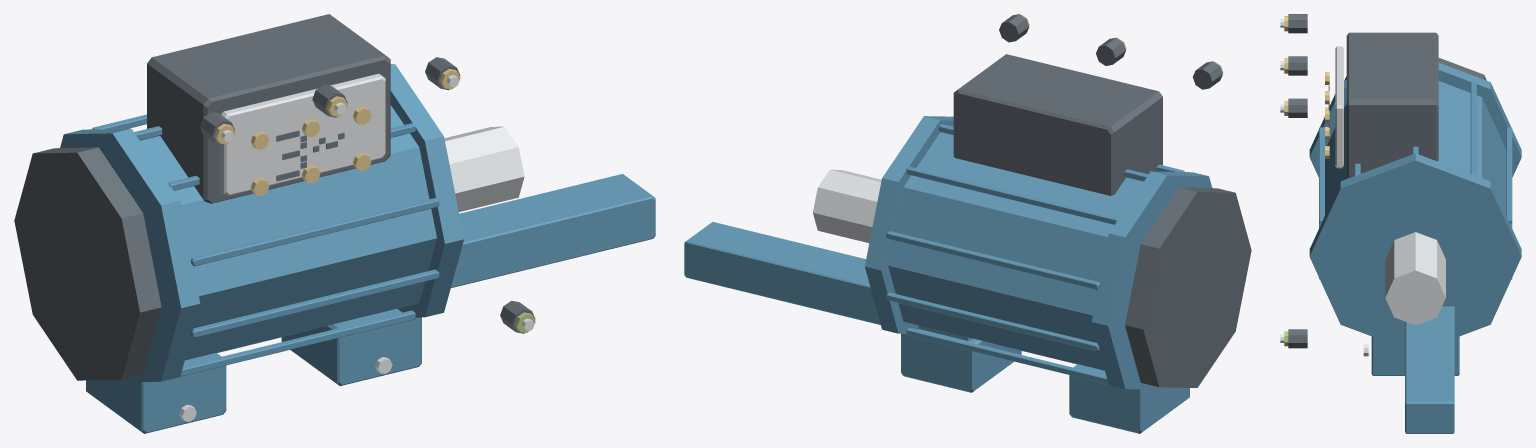
The model's file is motor3Phase.glb.
The picture shows the model from 3 angles, left to right: view 1: azimuth 30°, elevation 25°; view 2: azimuth 150°, elevation 25°; view 3: azimuth 270°, elevation 25°; orthographic projection. The views are drawn at different scales.
Visible parts, largest first — view 1: motor3Phase-board; view 2: motor3Phase-board; view 3: motor3Phase-board.
Boxes of the visible parts, left/top/right/bottom form: motor3Phase-board: left=14, top=14, right=655, bottom=433; motor3Phase-board: left=684, top=14, right=1251, bottom=433; motor3Phase-board: left=1280, top=14, right=1521, bottom=433.
Size of the model in its own units: 4.77 by 2.76 by 2.26.
